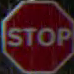Stop: (1, 1, 73, 73)
